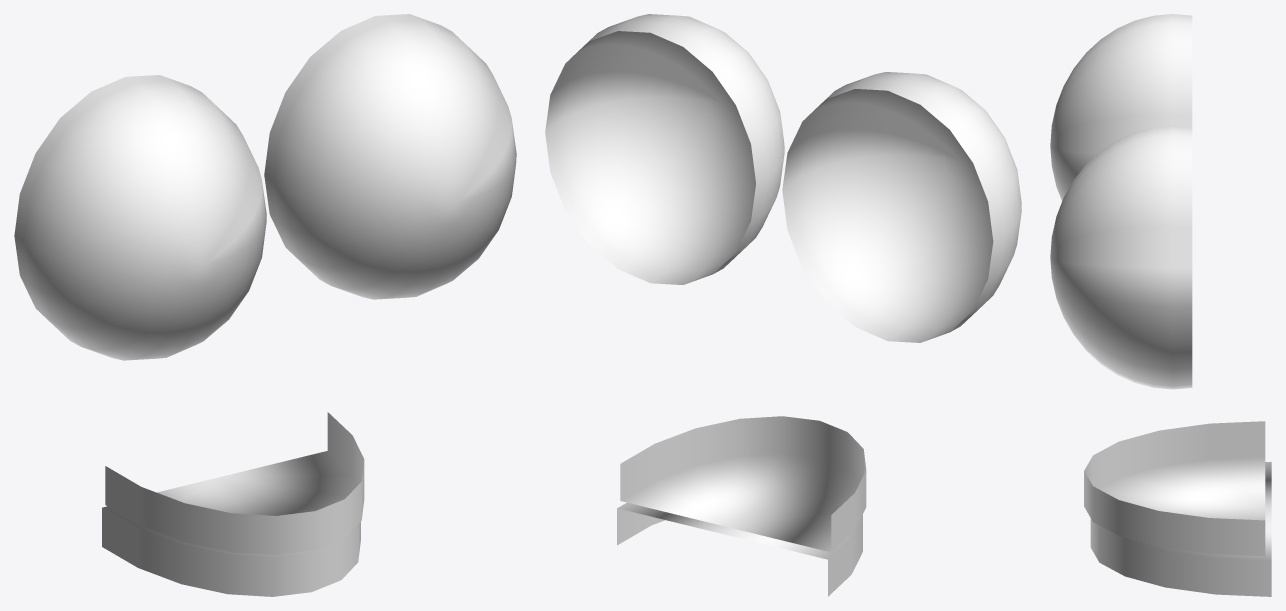
File: Voxel_Teeth_Eyes.fbx
3 renders of one model, left to right at view 1: azimuth 30°, elevation 25°; view 2: azimuth 150°, elevation 25°; view 3: azimuth 270°, elevation 25°, orthographic. The views are drawn at different scales.
Visible parts, largest first — view 1: Voxel_Teeth_Eyes1:default1; view 2: Voxel_Teeth_Eyes1:default1; view 3: Voxel_Teeth_Eyes1:default1.
Boxes of the visible parts, x1,y1,x2,y2 form: Voxel_Teeth_Eyes1:default1: (14,14,516,596); Voxel_Teeth_Eyes1:default1: (545,14,1021,596); Voxel_Teeth_Eyes1:default1: (1050,14,1271,596).
Size of the model in its own units: 12.48 by 12.76 by 5.5.
